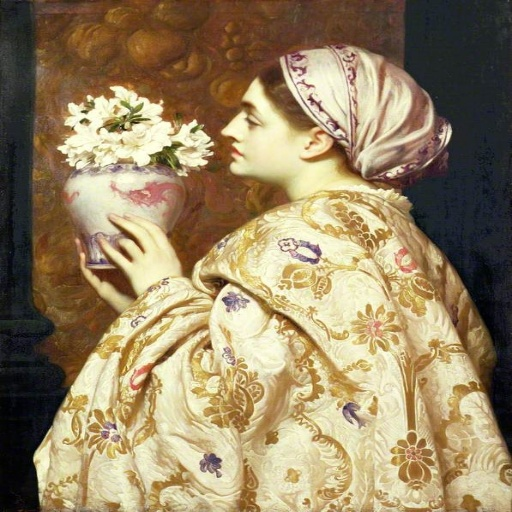hand: (72, 236, 139, 316)
